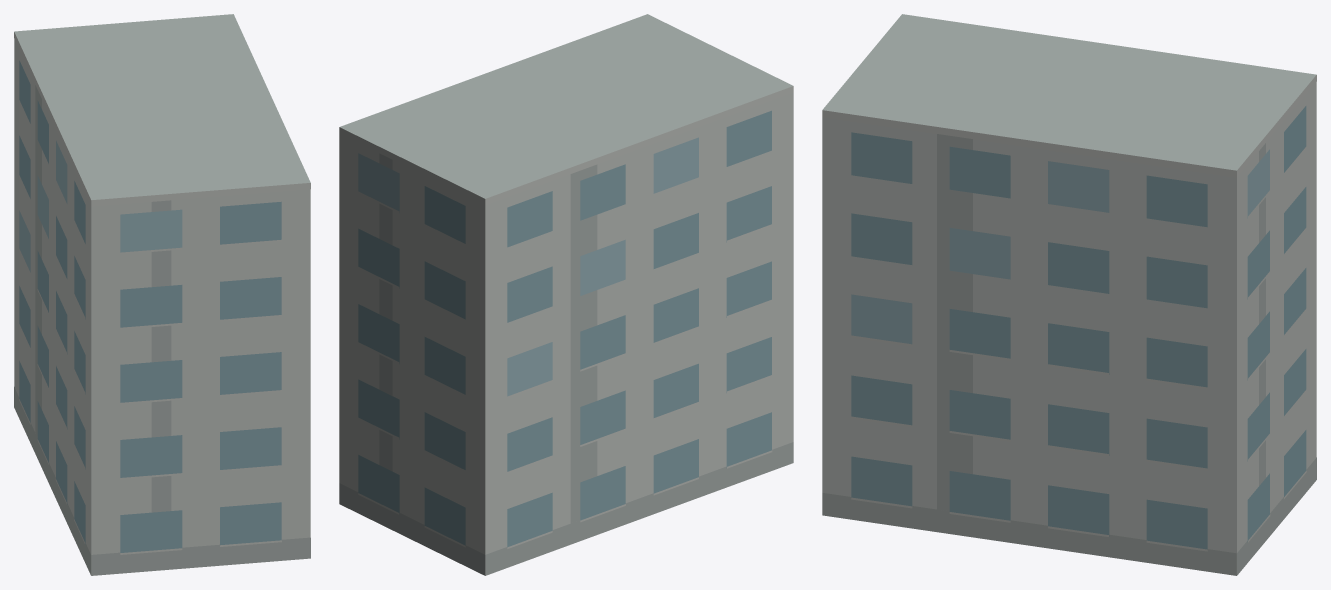
Rendered from survey-upis-32950793.glb.
The picture shows the model from 3 angles, left to right: view 1: azimuth 30°, elevation 25°; view 2: azimuth 150°, elevation 25°; view 3: azimuth 270°, elevation 25°; orthographic projection. The views are drawn at different scales.
Visible parts, largest first — view 1: survey-upis-32950793.tmp; view 2: survey-upis-32950793.tmp; view 3: survey-upis-32950793.tmp.
Part boxes in pixels (x1,y1,x2,y2): survey-upis-32950793.tmp: [14, 14, 310, 575]; survey-upis-32950793.tmp: [339, 14, 793, 575]; survey-upis-32950793.tmp: [822, 14, 1316, 575].
Bounding box in the file's own units: 11.7 × 14.1 × 15.61.
